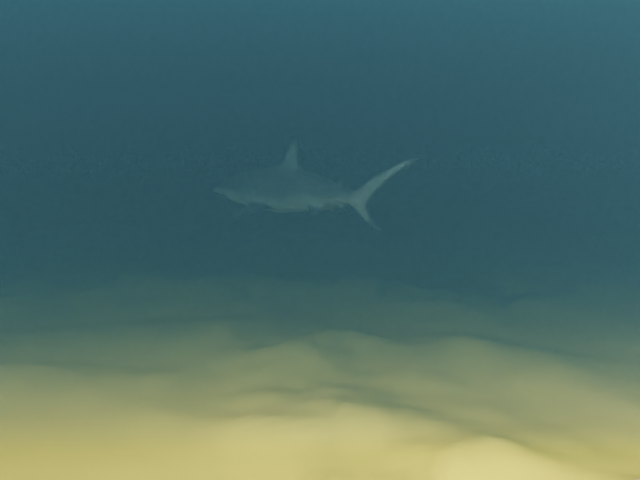Carribean Shark.001: (213, 138, 421, 231)
